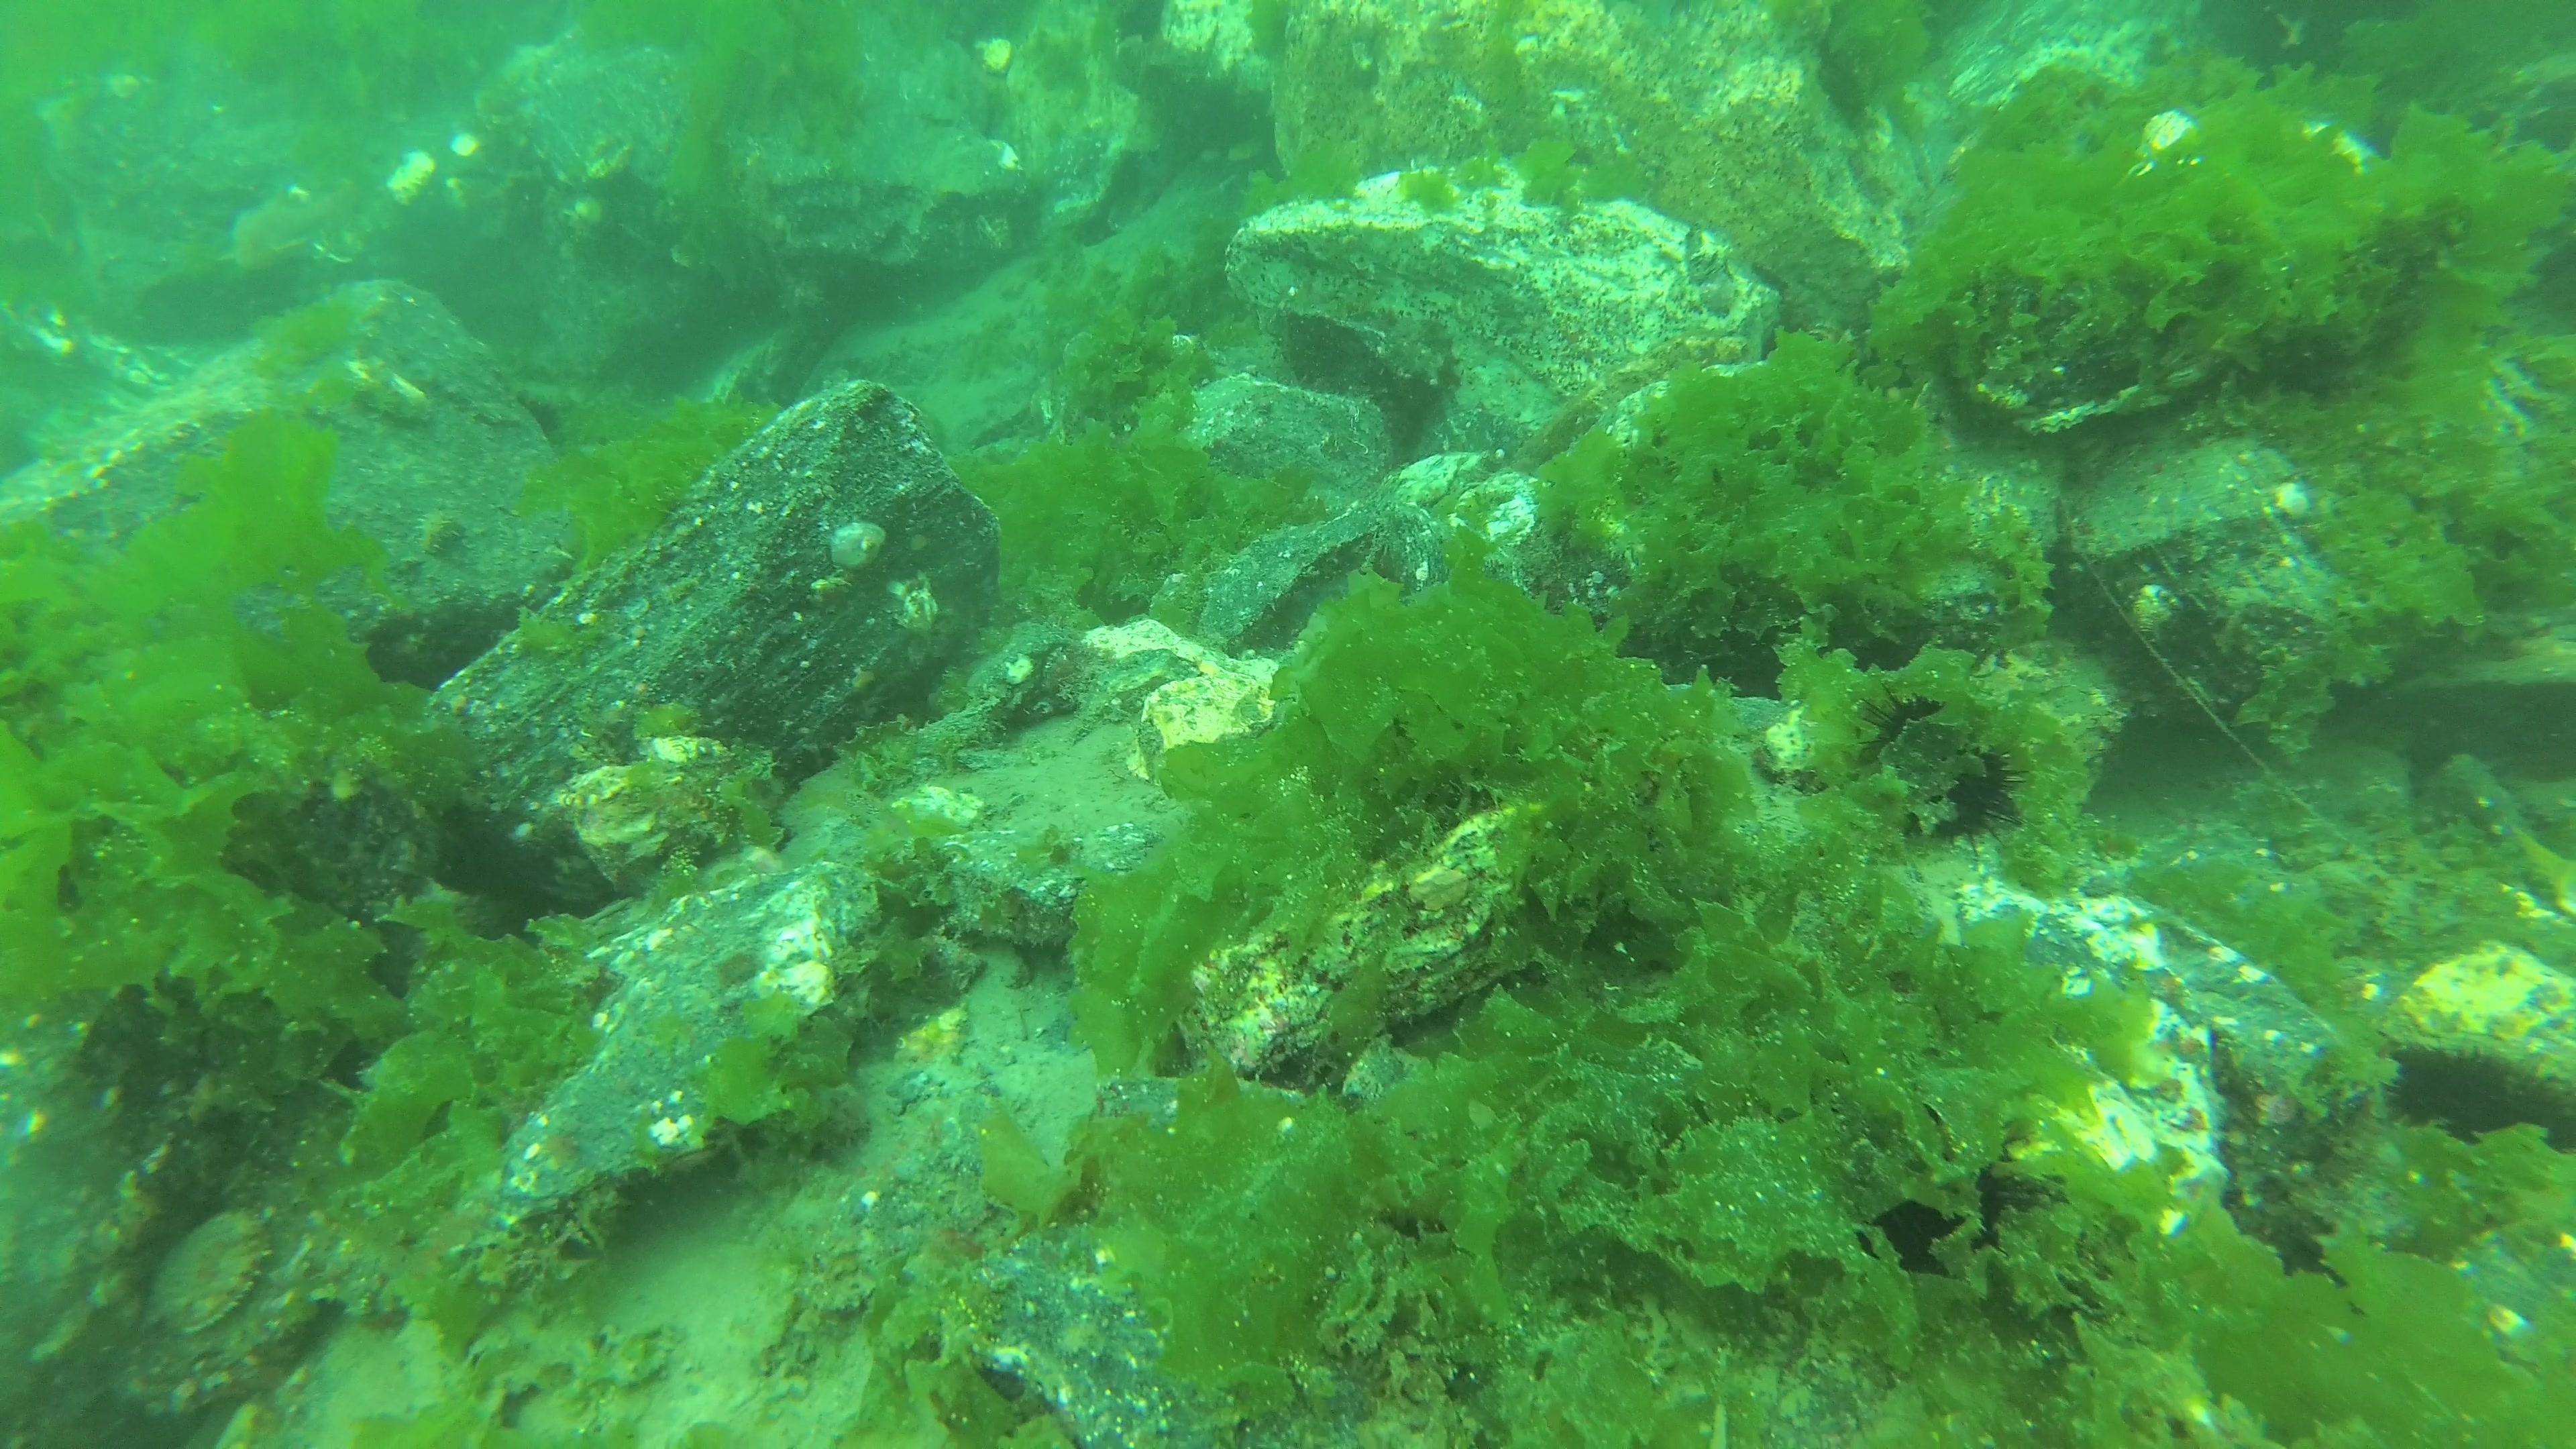echinus: (1849, 685, 2031, 851)
